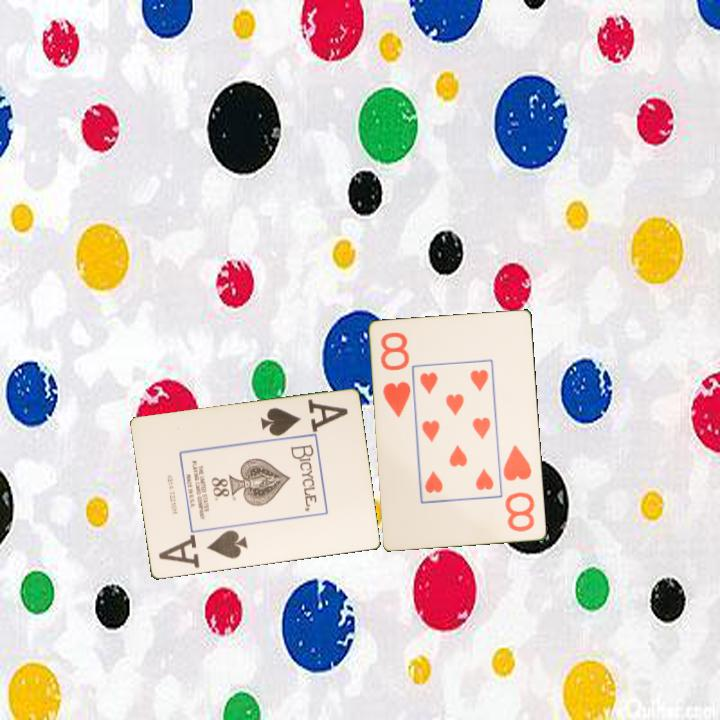8h: (500, 441, 538, 535), (377, 328, 414, 420)
As: (256, 396, 350, 439), (164, 527, 250, 562)
